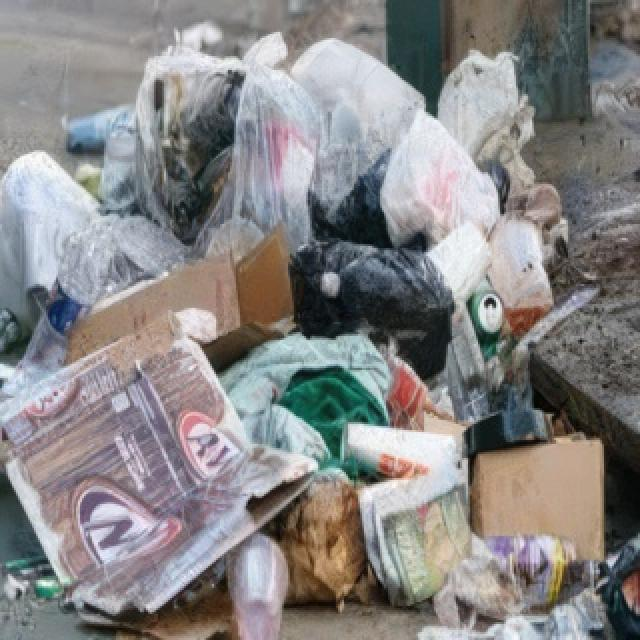Trashbag: (295, 223, 457, 385)
